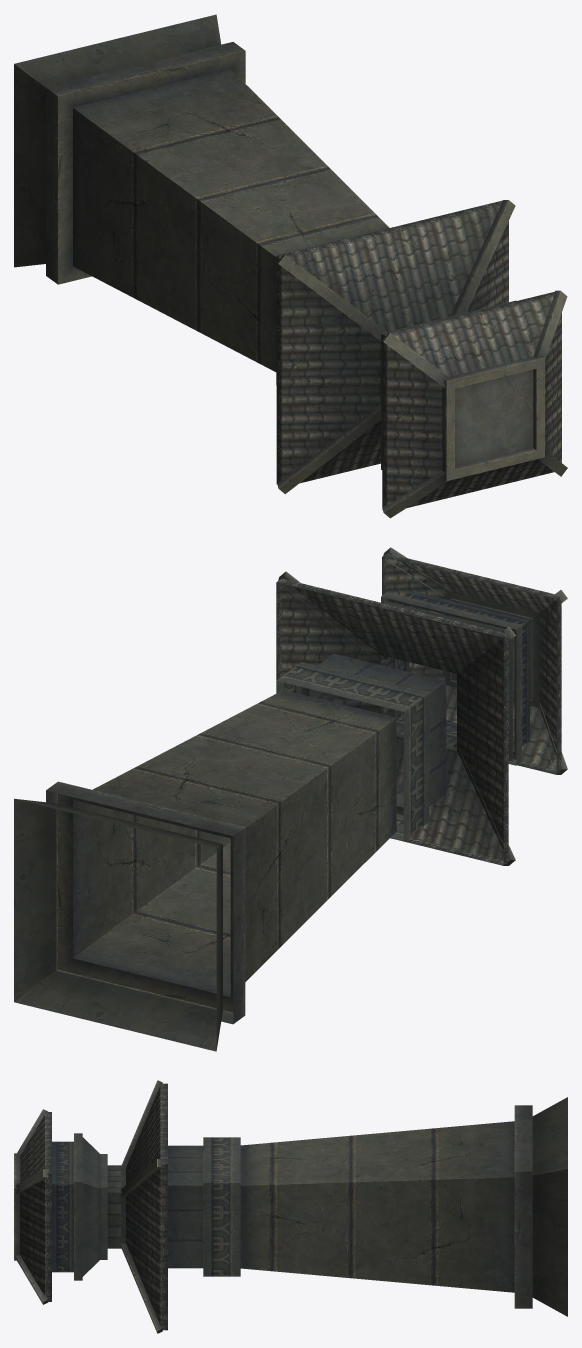
Rendered from tanxian_dongxue_371_zhuzi02.obj.
3 renders of one model, top to bottom at view 1: azimuth 30°, elevation 25°; view 2: azimuth 150°, elevation 25°; view 3: azimuth 270°, elevation 25°, orthographic. The views are drawn at different scales.
Parts seen in each view (by area): view 1: tanxian_dongxue_371_zhuzi02; view 2: tanxian_dongxue_371_zhuzi02; view 3: tanxian_dongxue_371_zhuzi02.
Part boxes in pixels (box(x1,y1,x2,y2)): tanxian_dongxue_371_zhuzi02: box(14, 14, 567, 518); tanxian_dongxue_371_zhuzi02: box(14, 547, 567, 1051); tanxian_dongxue_371_zhuzi02: box(14, 1080, 567, 1333).
Bounding box in the file's own units: 227 × 220 × 631.
Materials: 3 (3 with a texture image).
